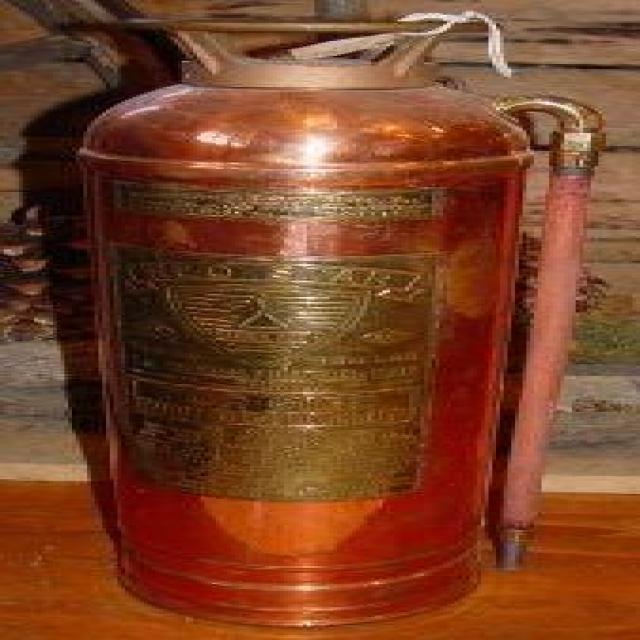fire_extinguisher: (59, 9, 608, 634)
